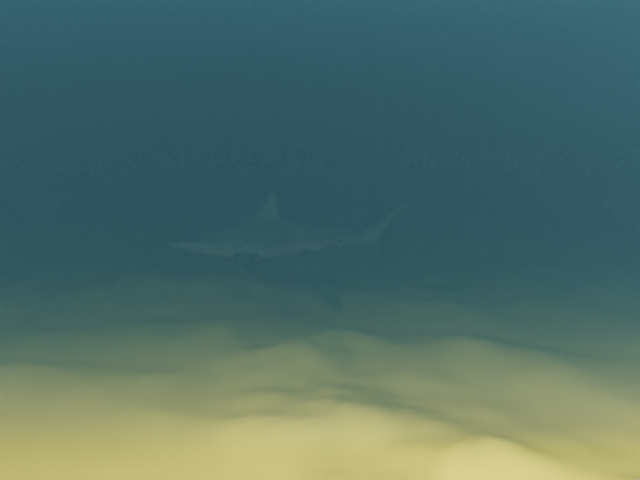Carribean Shark.001: (168, 190, 419, 274)
